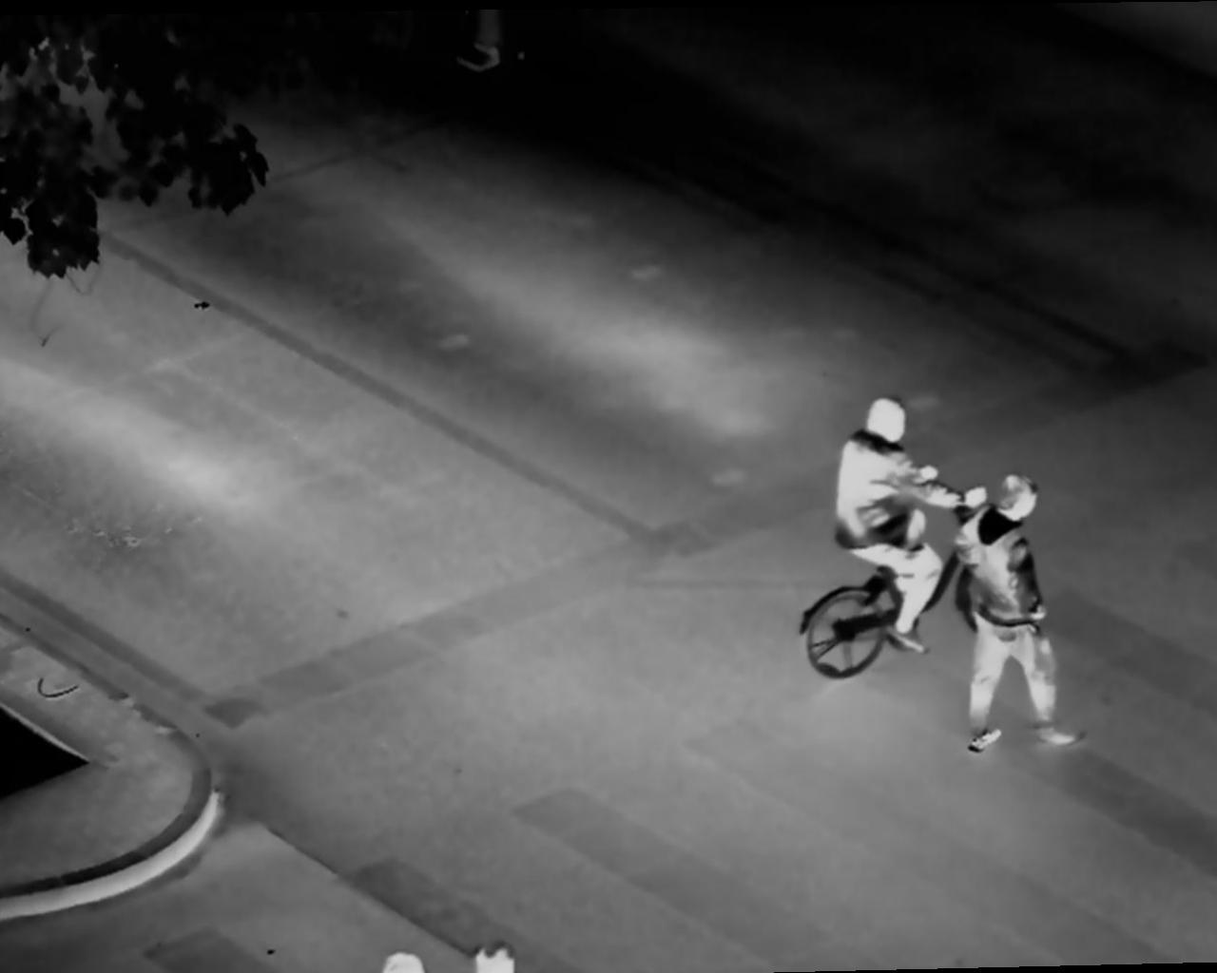person: (833, 388, 978, 658), (953, 473, 1088, 750)
